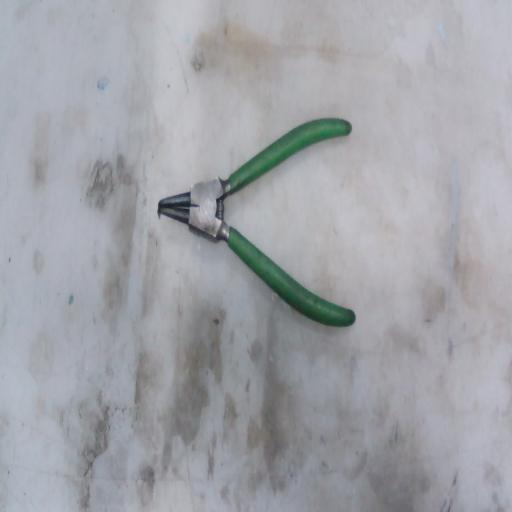tang_scun_hidrolik: (145, 54, 398, 366)
